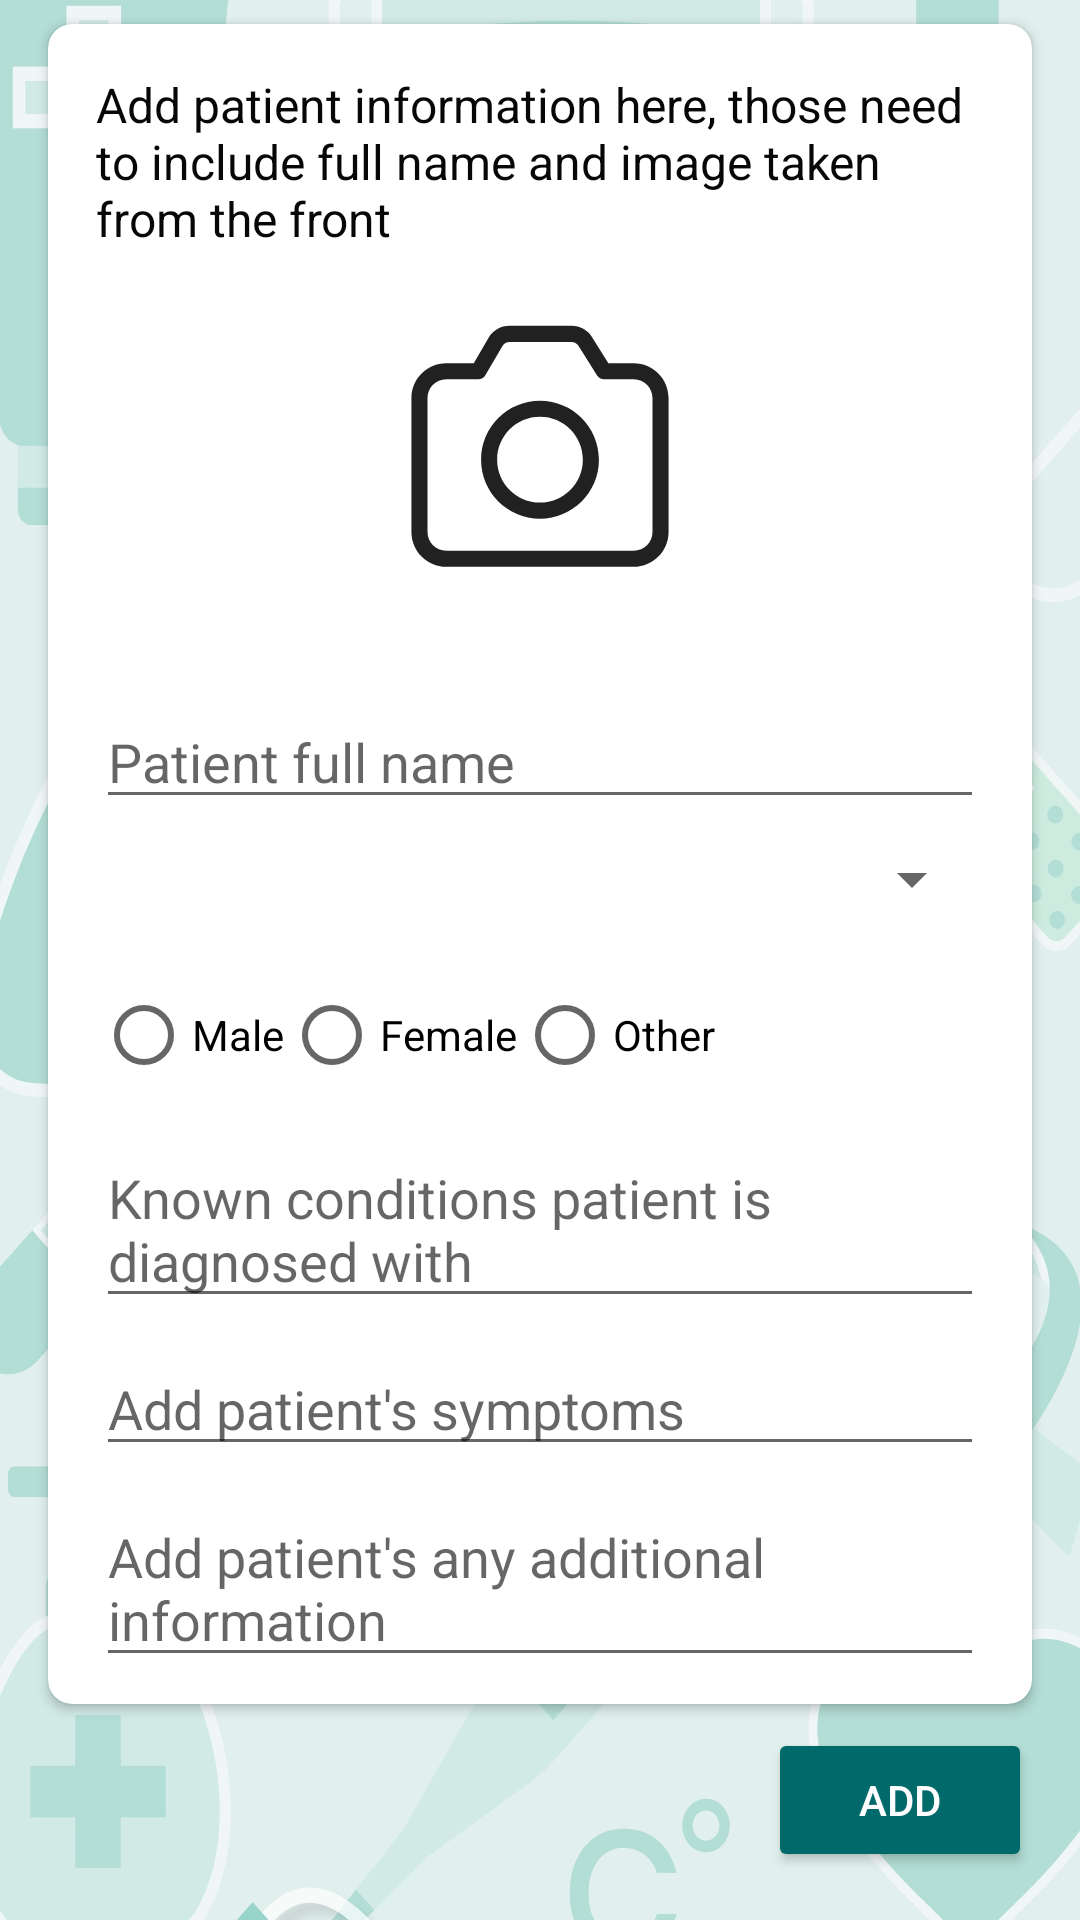

Named icons in this screenshot (1080 × 1920) and their centers, point (x, y):
camera: point (540, 446)
